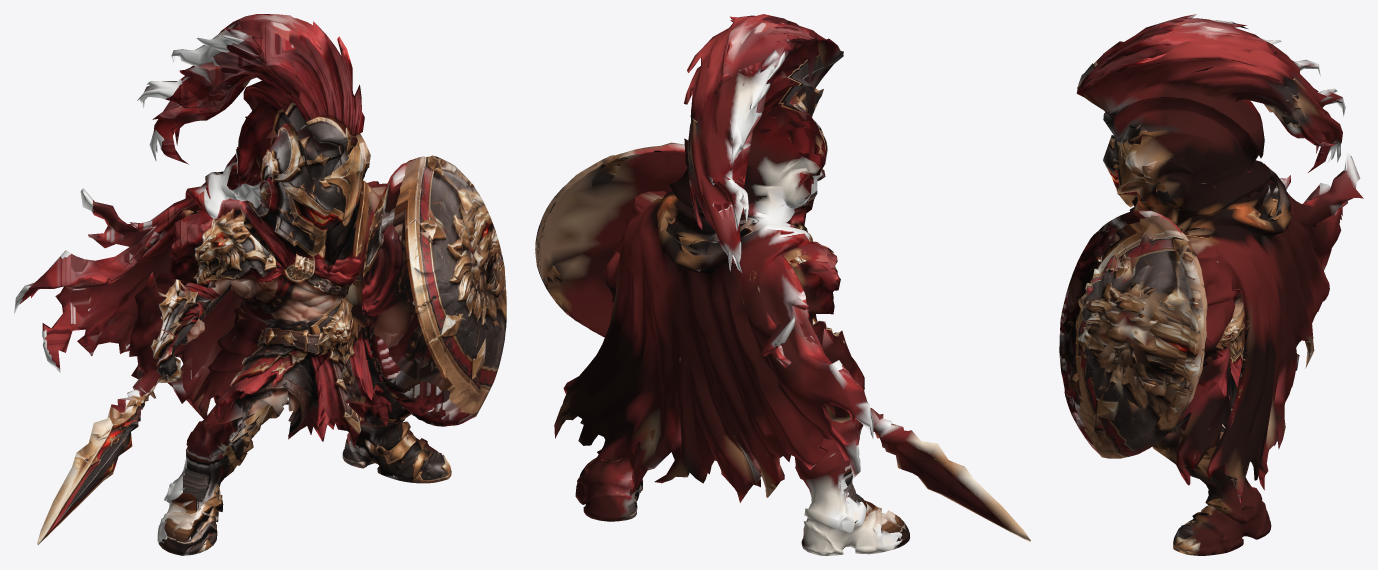
Rendered from ares_roblox.glb.
3 renders of one model, left to right at view 1: azimuth 30°, elevation 25°; view 2: azimuth 150°, elevation 25°; view 3: azimuth 270°, elevation 25°, orthographic. The views are drawn at different scales.
Visible parts, largest first — view 1: OlympianAres_Part003, OlympianAres_Part002, OlympianAres_Eyes; view 2: OlympianAres_Part002, OlympianAres_Part003; view 3: OlympianAres_Part002, OlympianAres_Part003.
Part boxes in pixels (x1,y1,x2,y2): OlympianAres_Part003: (14,14,506,555); OlympianAres_Part002: (25,14,502,545); OlympianAres_Eyes: (252,152,334,237); OlympianAres_Part002: (535,17,1030,555); OlympianAres_Part003: (545,14,1030,547); OlympianAres_Part002: (1062,14,1363,555); OlympianAres_Part003: (1059,14,1346,554).
Bounding box in the file's own units: 3.65 × 3.57 × 2.16.
Materials: 2 (2 with a texture image).
